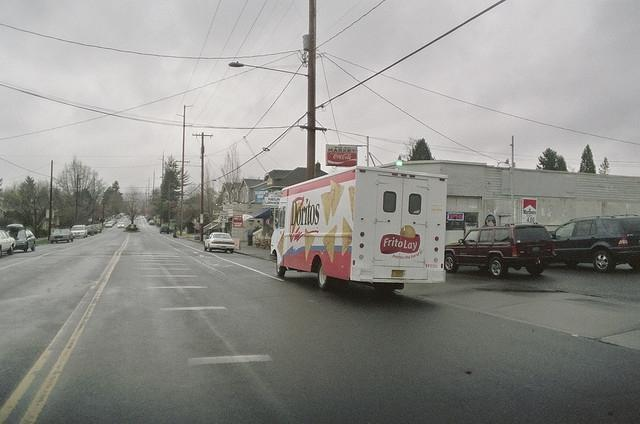car: (203, 231, 236, 253), (13, 230, 36, 253), (0, 229, 16, 258), (70, 225, 88, 238), (50, 230, 69, 240), (86, 226, 98, 236), (159, 225, 169, 234), (95, 224, 103, 233), (118, 222, 126, 229), (105, 222, 113, 228), (116, 215, 121, 219)
truck: (270, 165, 448, 292), (443, 221, 559, 277), (550, 214, 640, 272)
